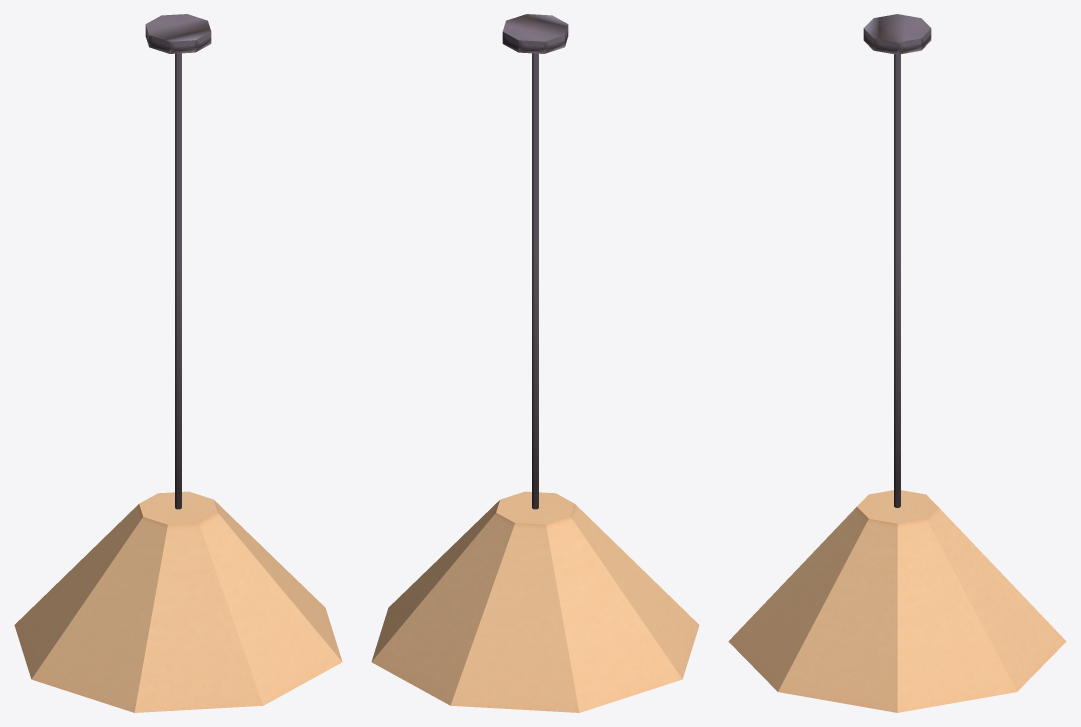
The model's file is Lamp_Pendant.fbx.
3 views of the same model, side by side, from view 1: azimuth 30°, elevation 25°; view 2: azimuth 150°, elevation 25°; view 3: azimuth 270°, elevation 25° (orthographic).
Parts seen in each view (by area): view 1: Lamp_Pendant; view 2: Lamp_Pendant; view 3: Lamp_Pendant.
Part boxes in pixels (x1,y1,x2,y2): Lamp_Pendant: [14, 14, 342, 712]; Lamp_Pendant: [371, 14, 699, 712]; Lamp_Pendant: [728, 14, 1066, 712].
Size of the model in its own units: 0.5 by 1 by 0.5.
